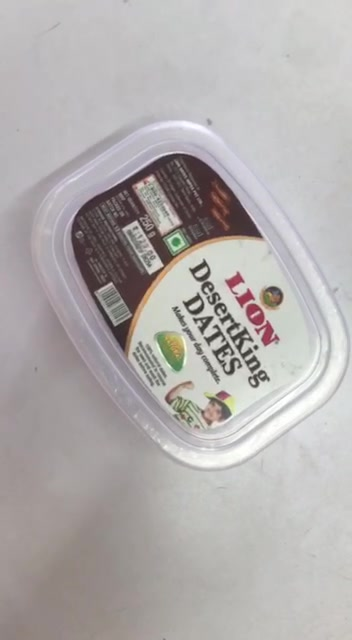Lion dates: (30, 123, 351, 473)
